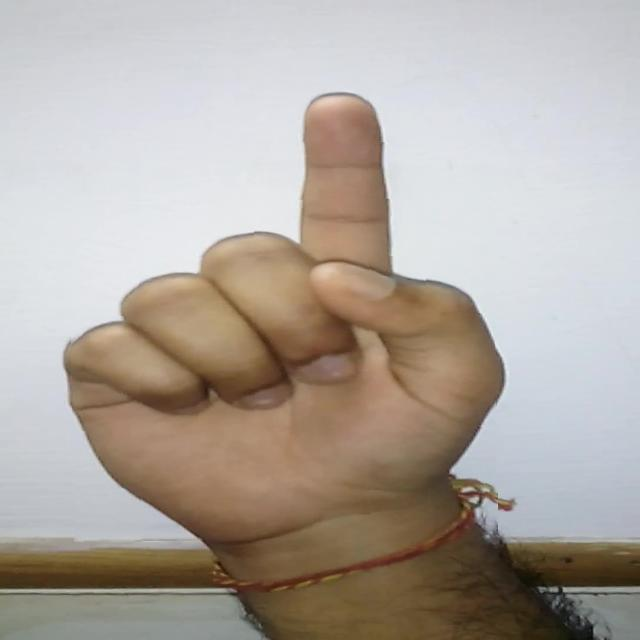I: (69, 88, 497, 541)
